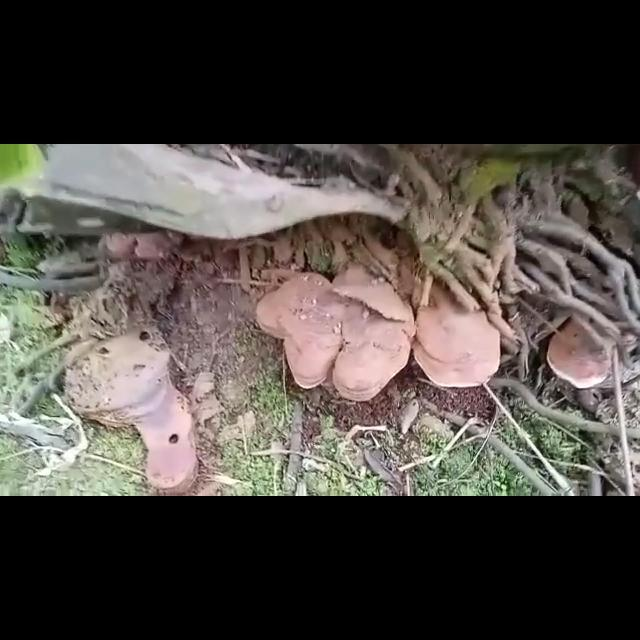ganoderma: (65, 334, 205, 497), (256, 269, 417, 404), (414, 299, 504, 389), (546, 320, 616, 391)
